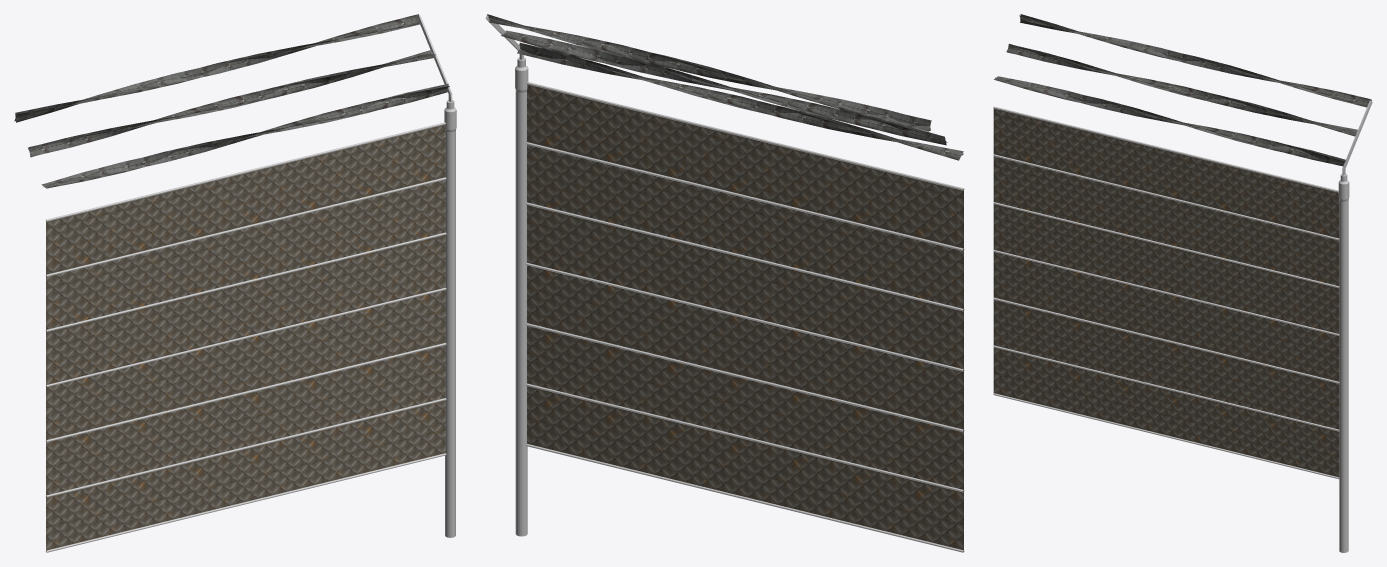
The model's file is Wire_Fence1_el1.fbx.
3 views of the same model, side by side, from view 1: azimuth 30°, elevation 25°; view 2: azimuth 150°, elevation 25°; view 3: azimuth 330°, elevation 25° (orthographic). The views are drawn at different scales.
Parts seen in each view (by area): view 1: polySurface300; view 2: polySurface300; view 3: polySurface300.
Boxes of the visible parts, bbox=[...] form: polySurface300: bbox=[14, 14, 456, 552]; polySurface300: bbox=[485, 14, 964, 552]; polySurface300: bbox=[993, 14, 1372, 552].
Bounding box in the file's own units: 4.05 × 4.72 × 0.6235.
